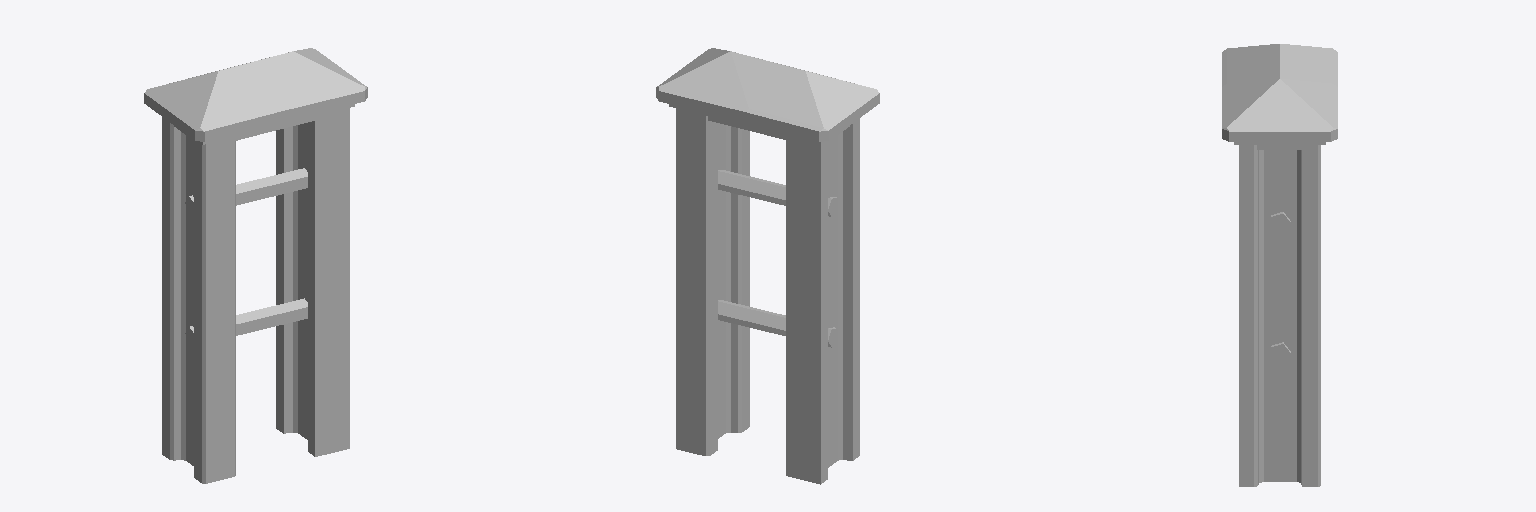
Rendered from lms_post_rail_top.obj.
The picture shows the model from 3 angles: view 1: azimuth 30°, elevation 25°; view 2: azimuth 150°, elevation 25°; view 3: azimuth 270°, elevation 25°; orthographic projection.
Visible parts, largest first — view 1: Railpost_top_Cube.034; view 2: Railpost_top_Cube.034; view 3: Railpost_top_Cube.034.
Boxes of the visible parts, x1,y1,x2,y2 form: Railpost_top_Cube.034: [144, 48, 367, 483]; Railpost_top_Cube.034: [656, 48, 879, 484]; Railpost_top_Cube.034: [1222, 44, 1337, 486].
Size of the model in its own units: 0.4604 by 1 by 0.2667.